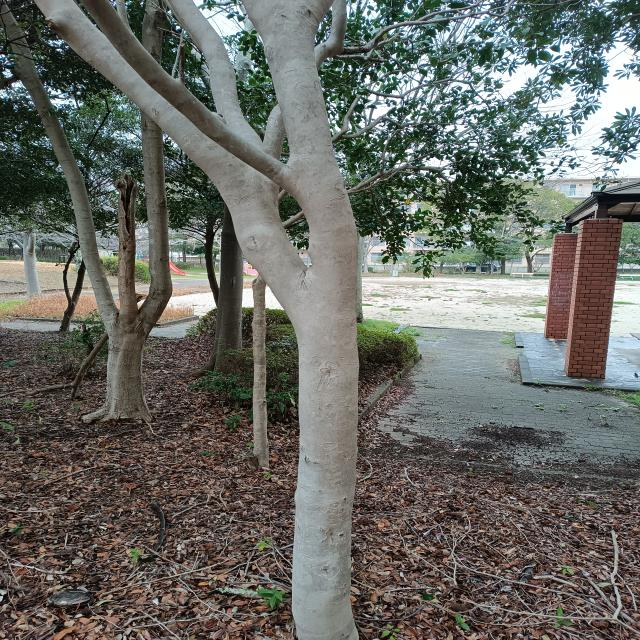Branch: (33, 0, 308, 303), (0, 0, 121, 338), (239, 0, 335, 164), (288, 156, 359, 270), (138, 110, 173, 338), (113, 172, 139, 326), (315, 0, 347, 69), (266, 105, 286, 157)
Twig: (82, 0, 290, 192), (165, 1, 259, 141), (339, 10, 490, 55), (330, 87, 369, 143), (368, 77, 455, 98), (342, 116, 419, 139), (416, 1, 482, 20), (486, 0, 515, 18), (332, 55, 387, 62), (512, 0, 570, 5), (488, 5, 508, 12), (456, 11, 466, 15)
